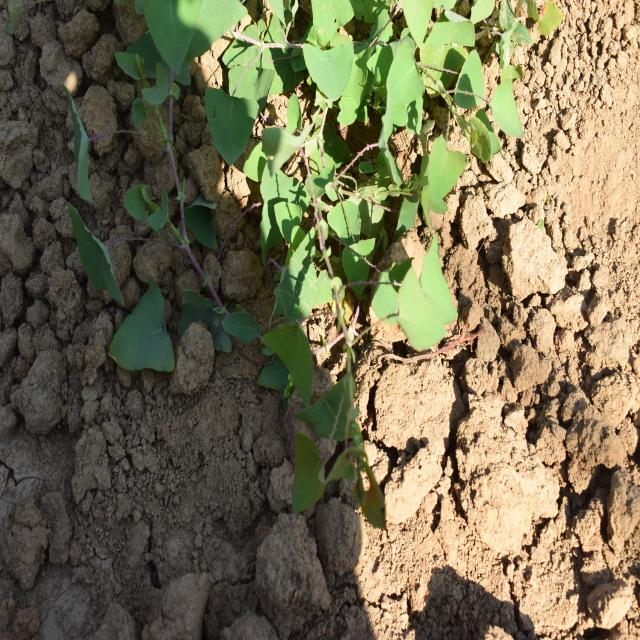Asiatic_Smartweed: (255, 203, 453, 510), (359, 0, 520, 187)
